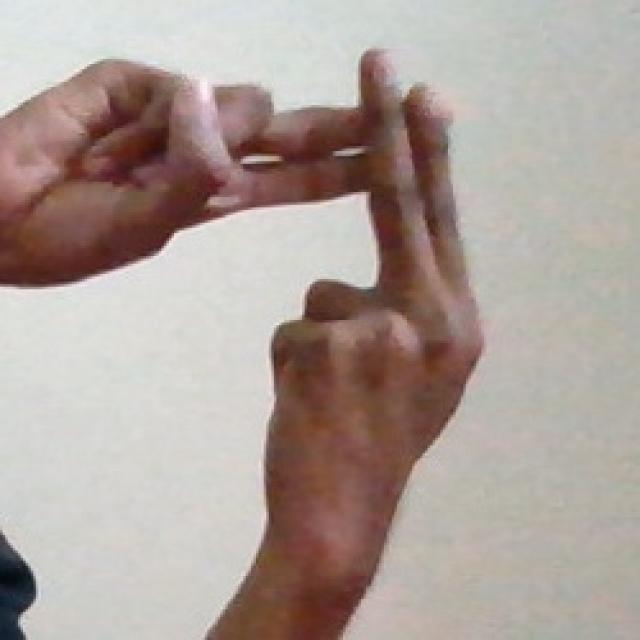Alphabet-F: (31, 49, 490, 500)
